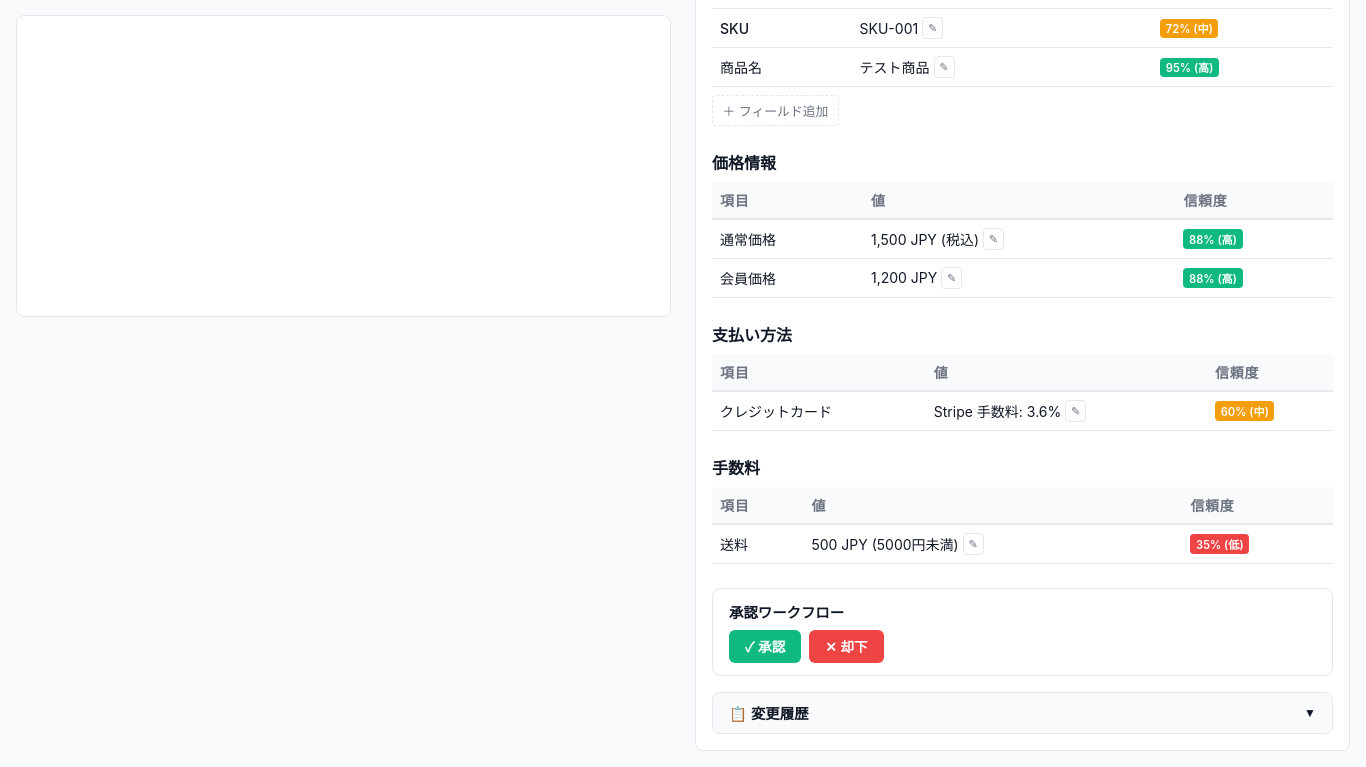
Scenario: CrawlResultReview Integration › 編集と承認ワークフロー › expands change history and fetches audit logs
(page scrolled)
Click the button "📋 変更履歴 ▼".
click(769, 714)  # box top-left (713, 693), bottom-right (1332, 733)
(page scrolled)
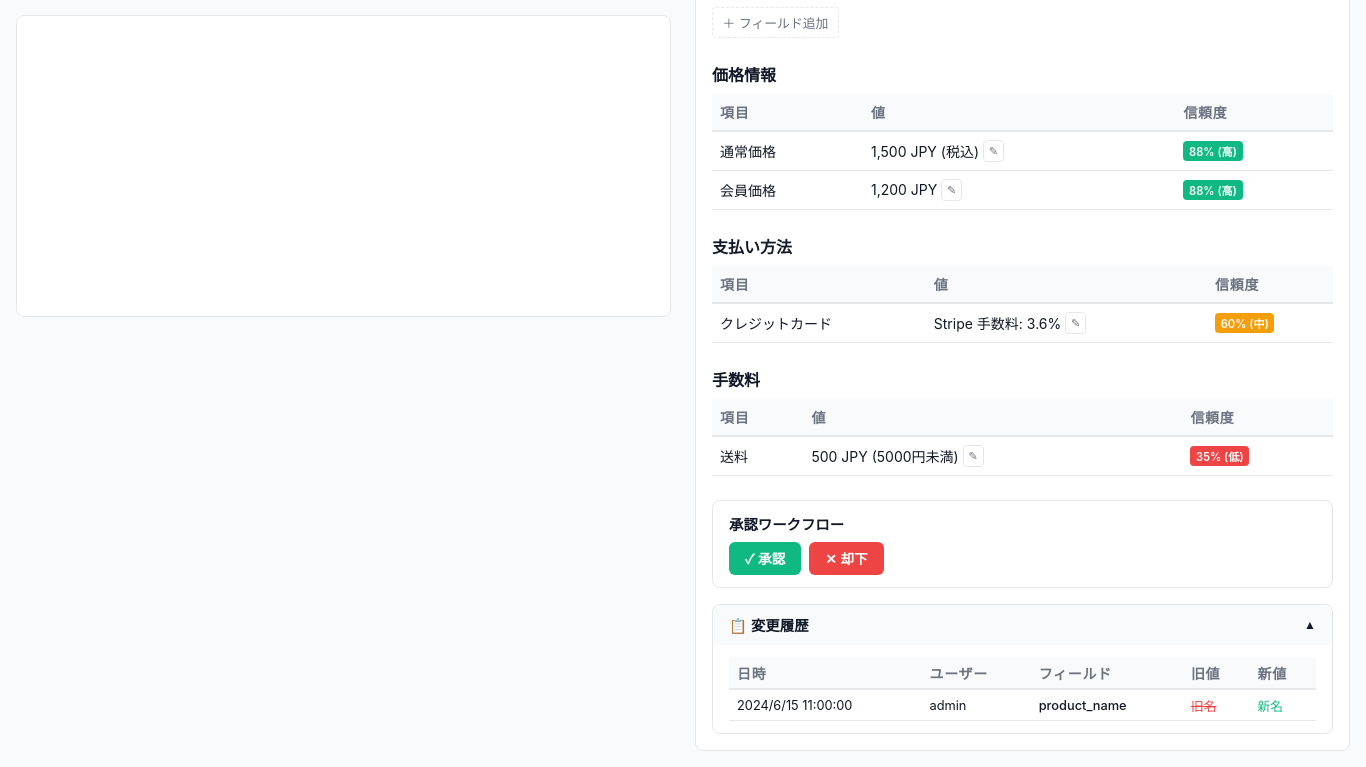
Expected: the text "admin" is shown, top-left (922, 689), bottom-right (1031, 721)
Expected: the text "旧名" is shown, top-left (1183, 689), bottom-right (1249, 721)
Expected: the text "新名" is shown, top-left (1249, 689), bottom-right (1316, 721)
